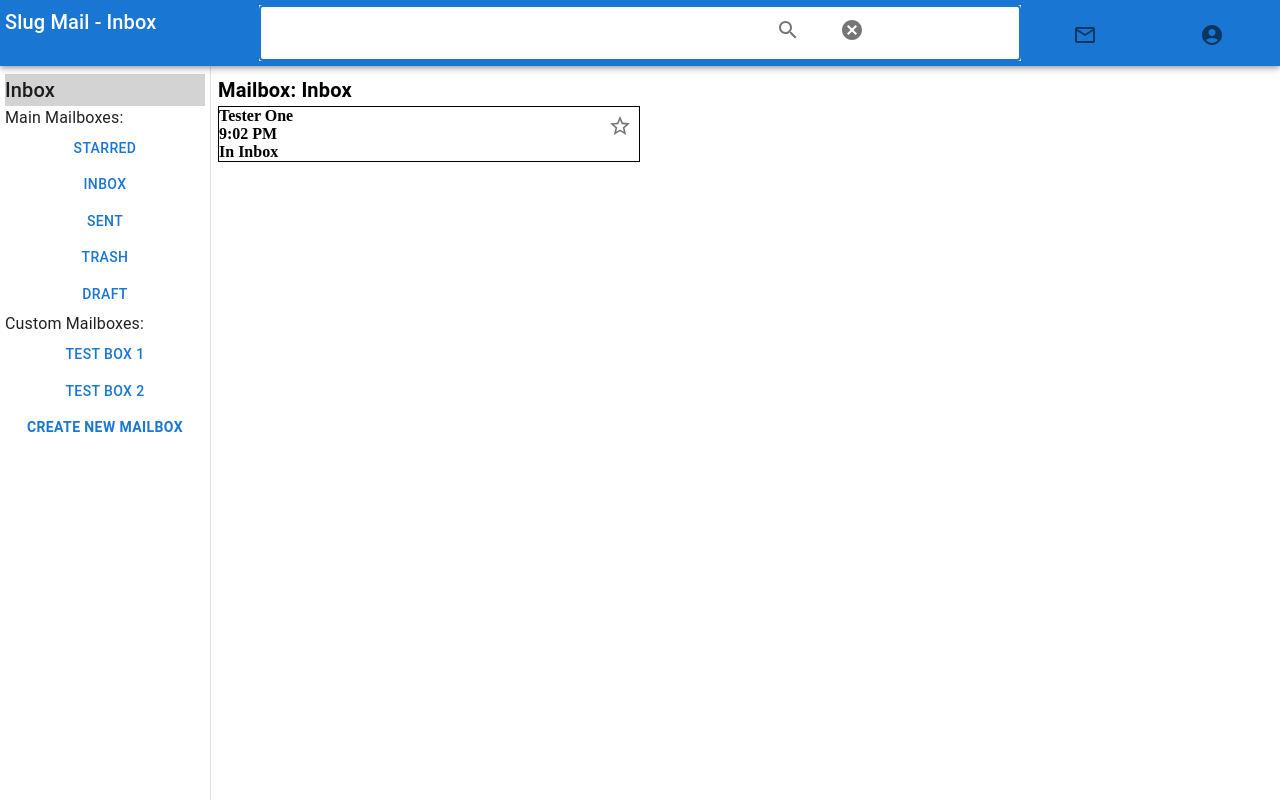
Test: reply compose
expect the text "Mailbox: Inbox" is shown: met, box [218, 78, 352, 102]
Click the text "Tester One" at (256, 116), box [219, 107, 293, 124]
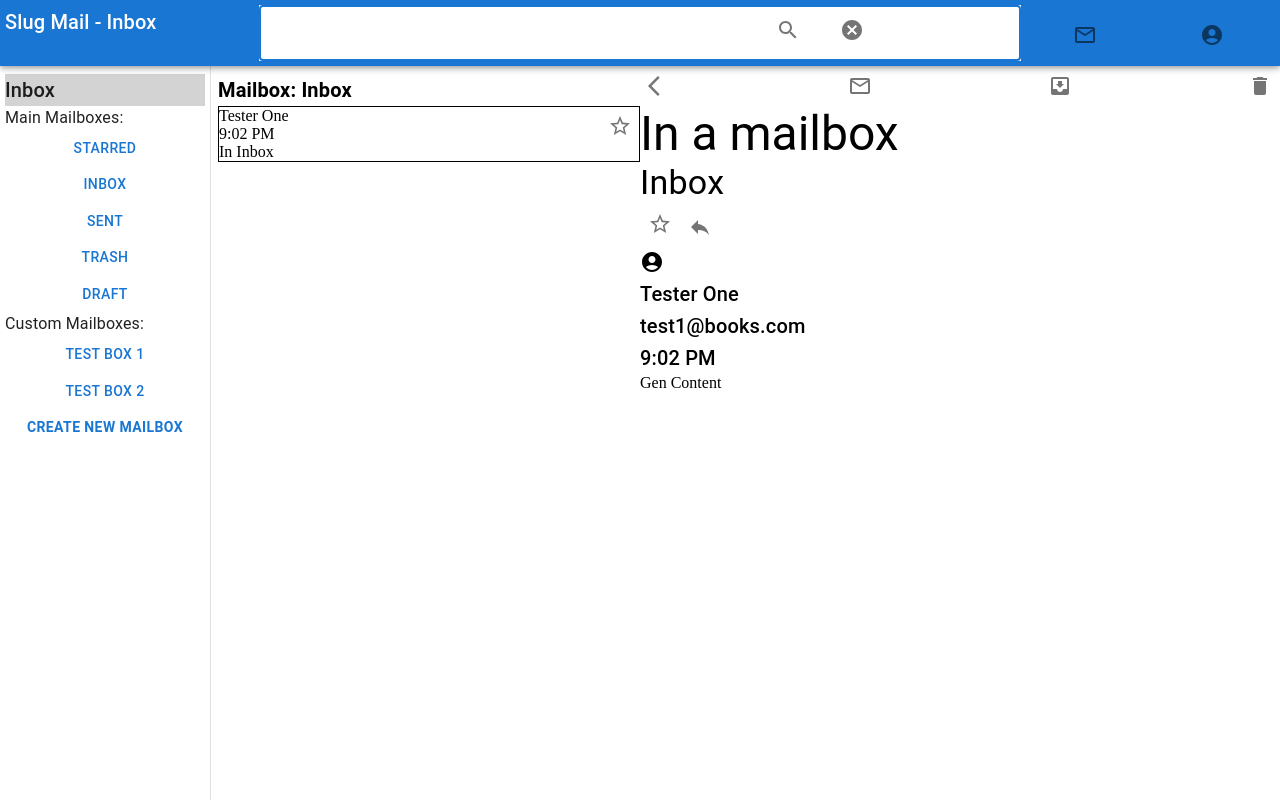
expect the text "Gen Content" is shown: met, box [640, 374, 721, 391]
Click the button named "replyButton" at (700, 227), box [680, 207, 720, 247]
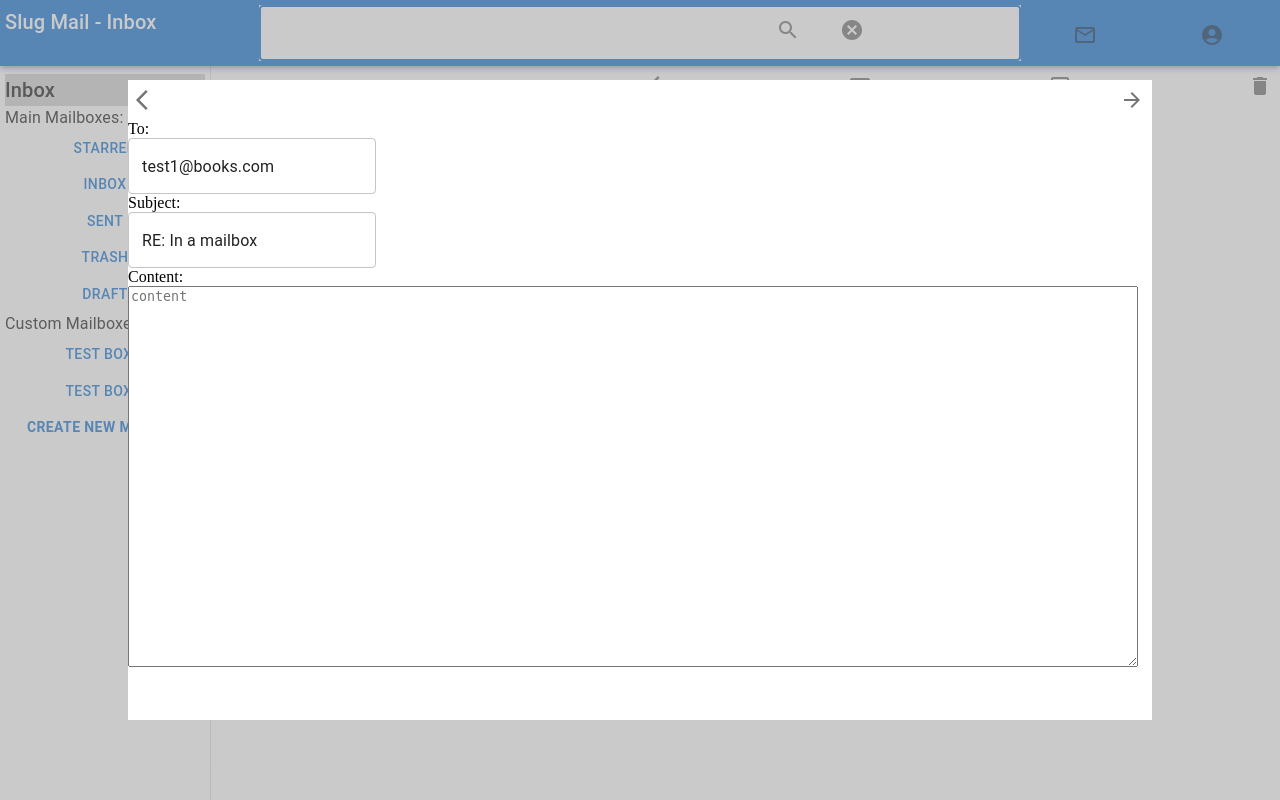
expect the text "To:" is shown: met, box [128, 120, 376, 194]
